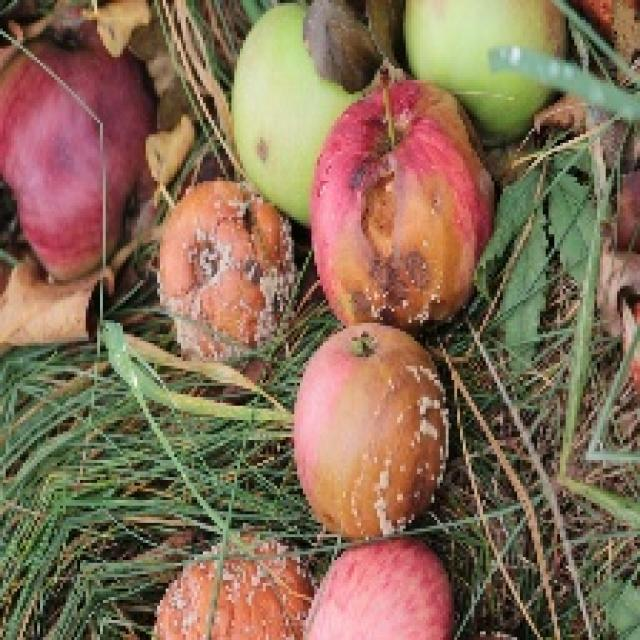rotten_apple: (319, 87, 493, 326), (298, 328, 448, 540), (159, 186, 300, 368), (160, 537, 300, 640)
